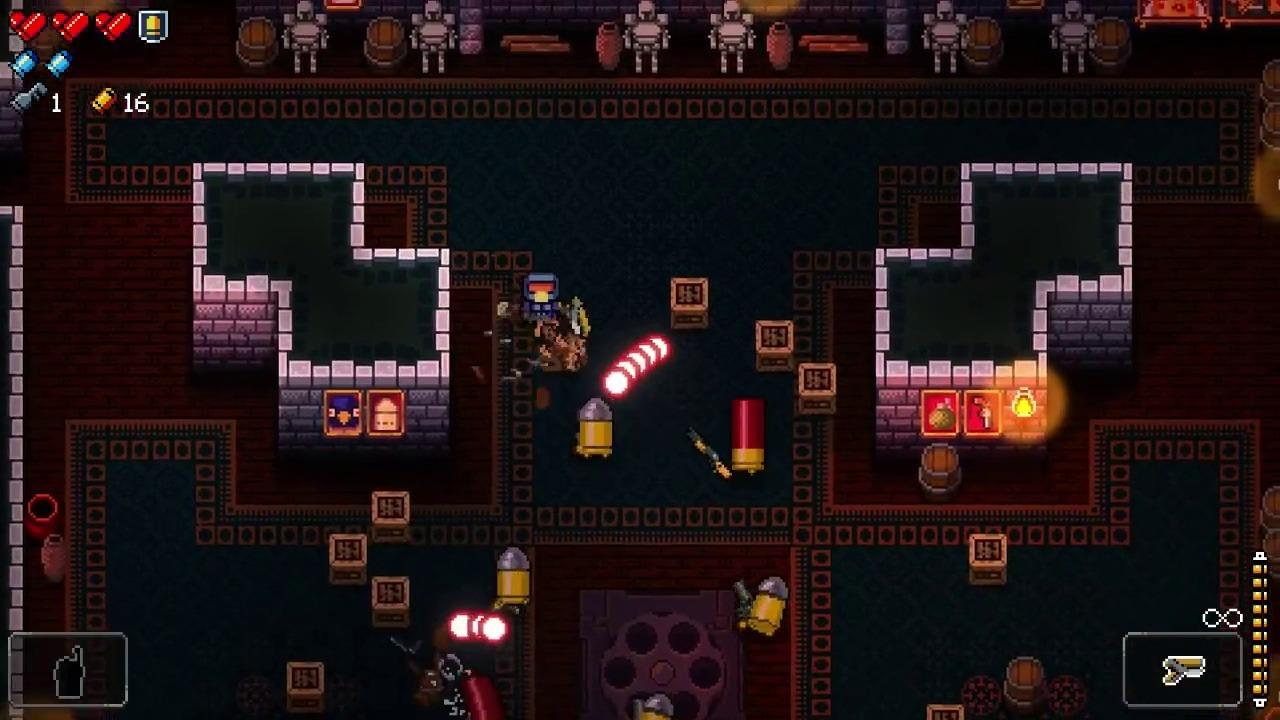bullet: (619, 348, 652, 380), (629, 340, 662, 372), (640, 334, 673, 366), (603, 369, 633, 399), (480, 615, 510, 645), (613, 359, 641, 391), (447, 611, 475, 641)
bullet_kin: (748, 575, 788, 639), (577, 396, 614, 459), (496, 547, 531, 606), (640, 691, 675, 720)
player: (522, 272, 561, 324)
red_shotgun_kin: (730, 399, 765, 472), (460, 676, 505, 720)
teleporter: (577, 588, 744, 720)
